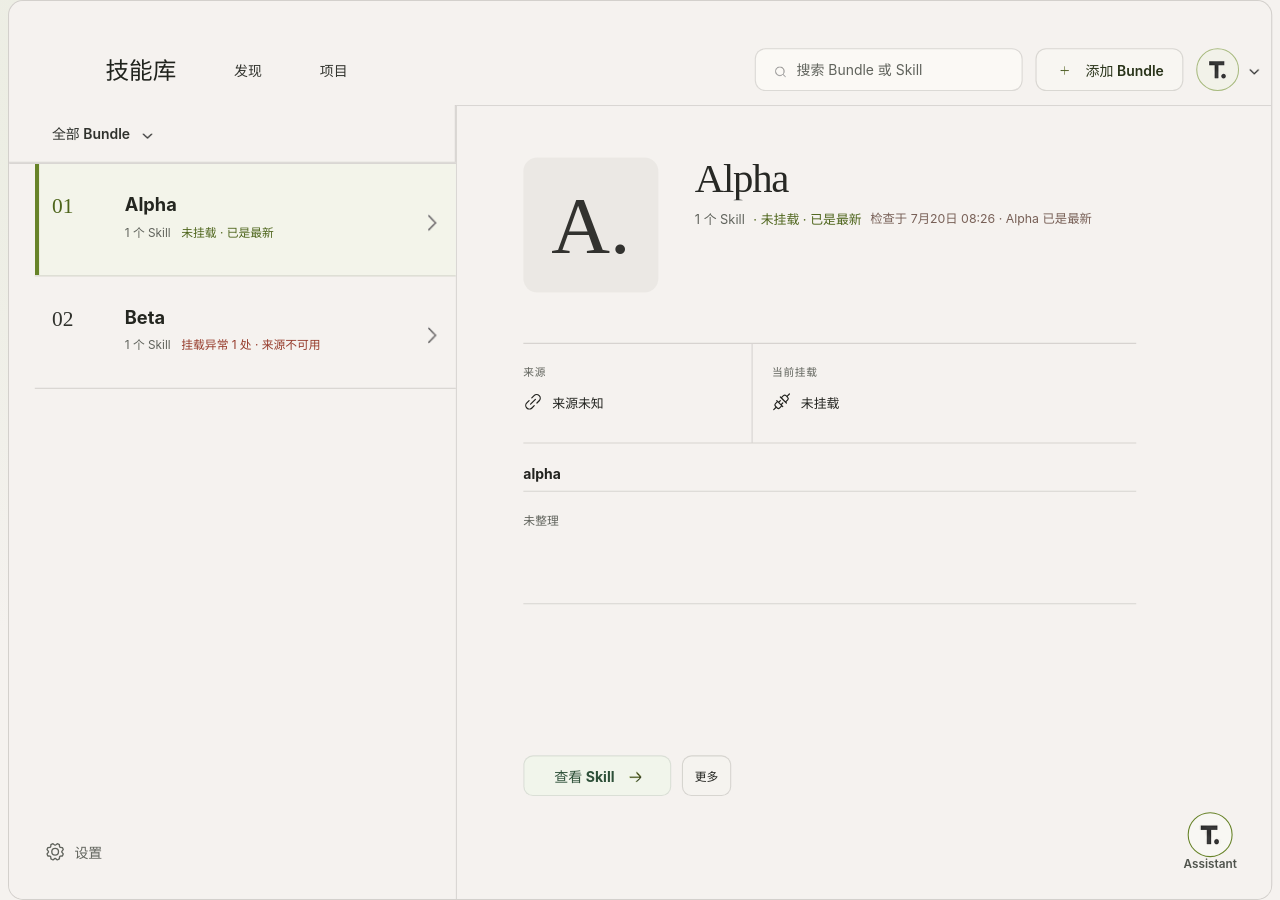
it: 主题功能等价 › ledger 同时呈现更新检查与 Mount 健康真值
This screenshot has width=1280, height=900.
Click the button "02 Beta 1 个 Skill 挂载异常 1 处 · 来源不可用 打开" at (145, 317), box left=35, top=276, right=456, bottom=389
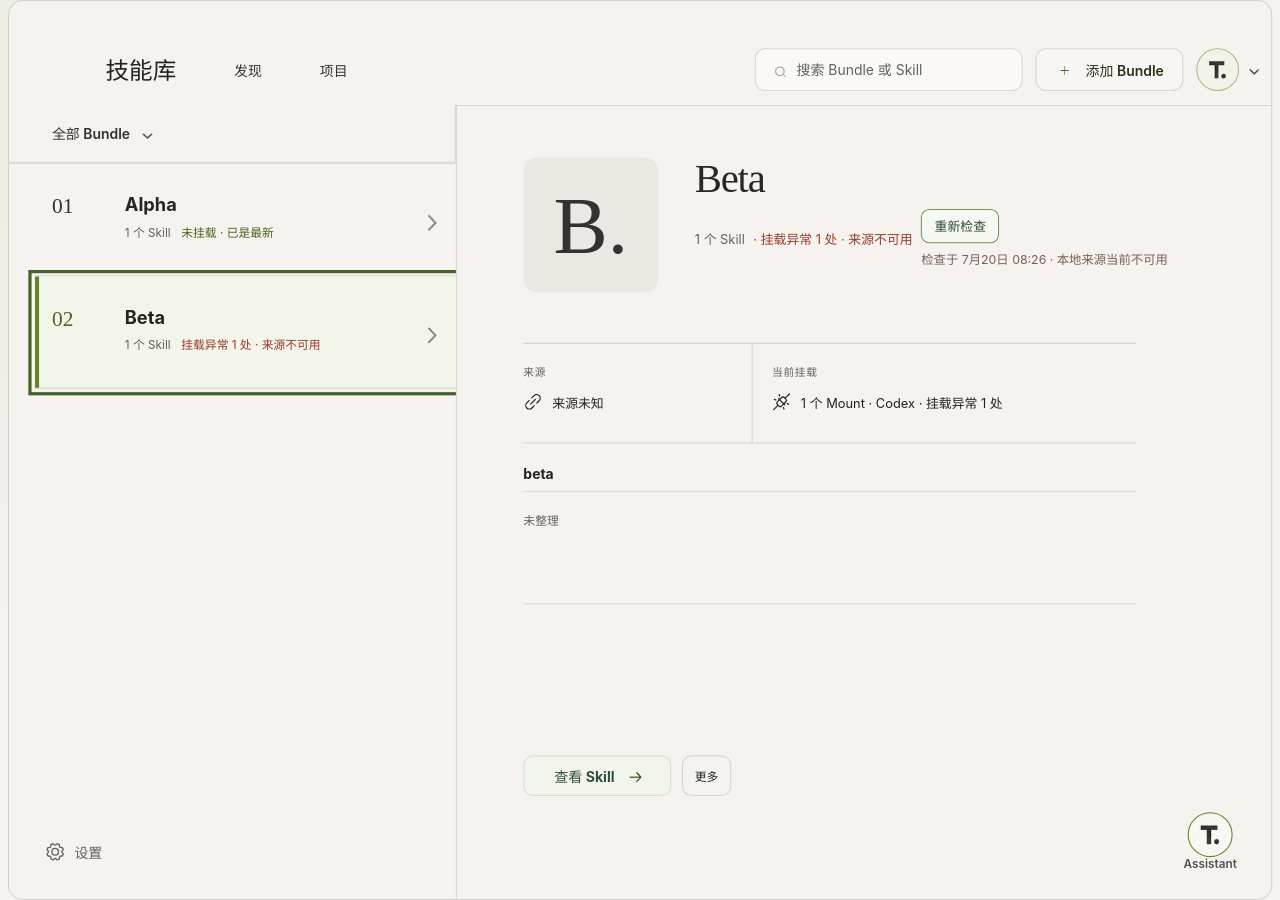
Expected: the element "Beta" shows "挂载异常 1 处 · 来源不可用", left=760, top=231, right=912, bottom=247
Expected: the element "Beta" shows "1 个 Mount · Codex · 挂载异常 1 处", left=801, top=395, right=1003, bottom=411
Expected: the button with aria-label "重新检查 Beta" is enabled, left=921, top=209, right=999, bottom=243
